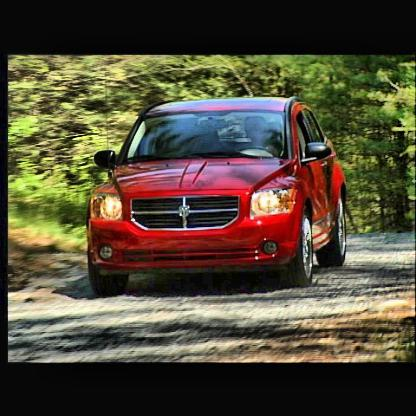Dodge Caliber Wagon 2007: (87, 101, 349, 288)
